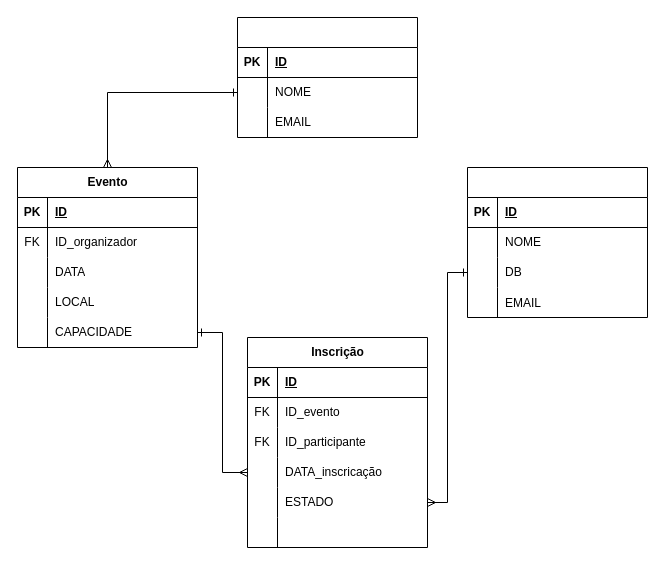
Some shapes in this 665 by 565 pixel diagram are drawn without their labels. Each missing label, with the box of its shape:
Organizador: (236, 16, 418, 138)
Participante: (466, 166, 648, 318)
